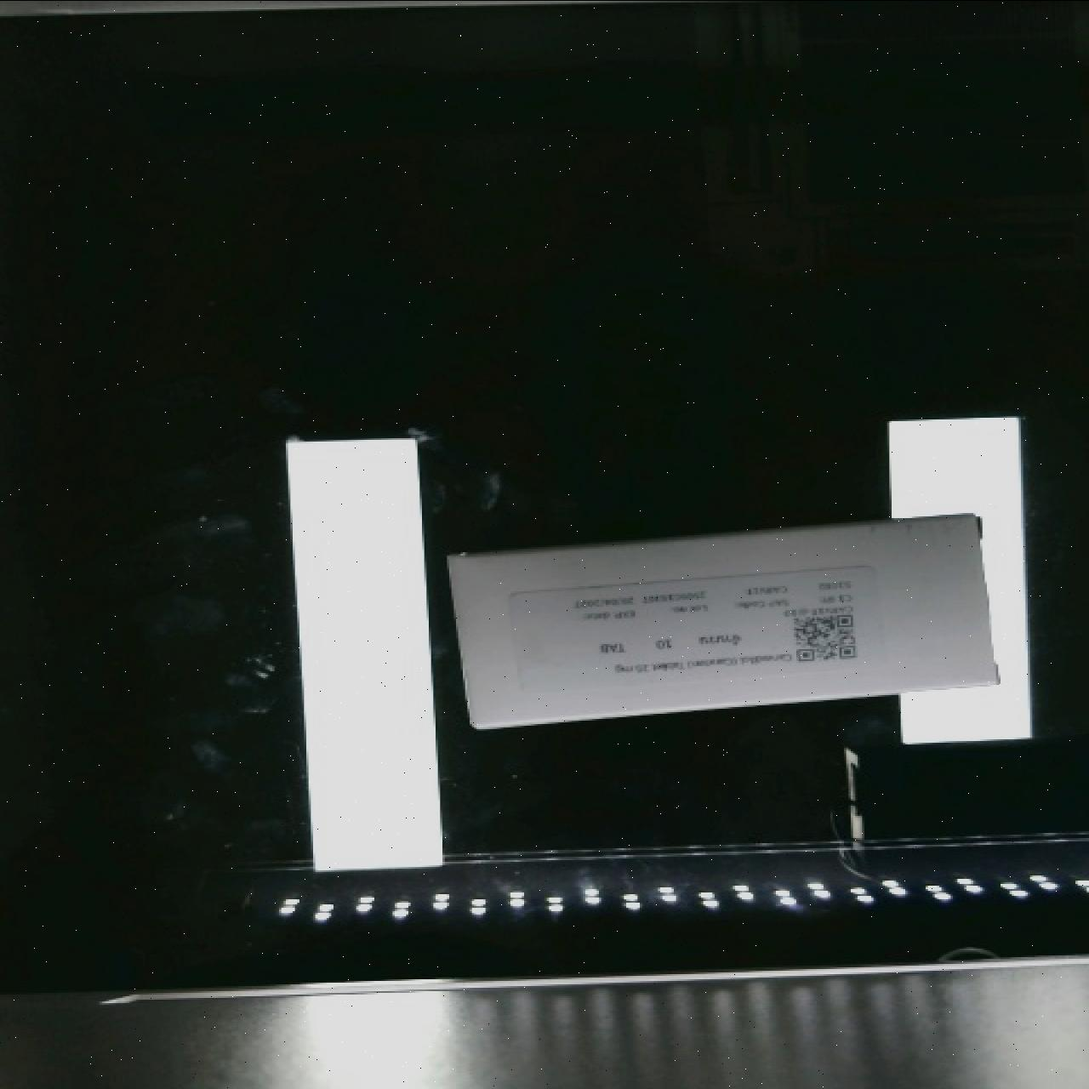qr_code: (779, 598, 877, 675)
